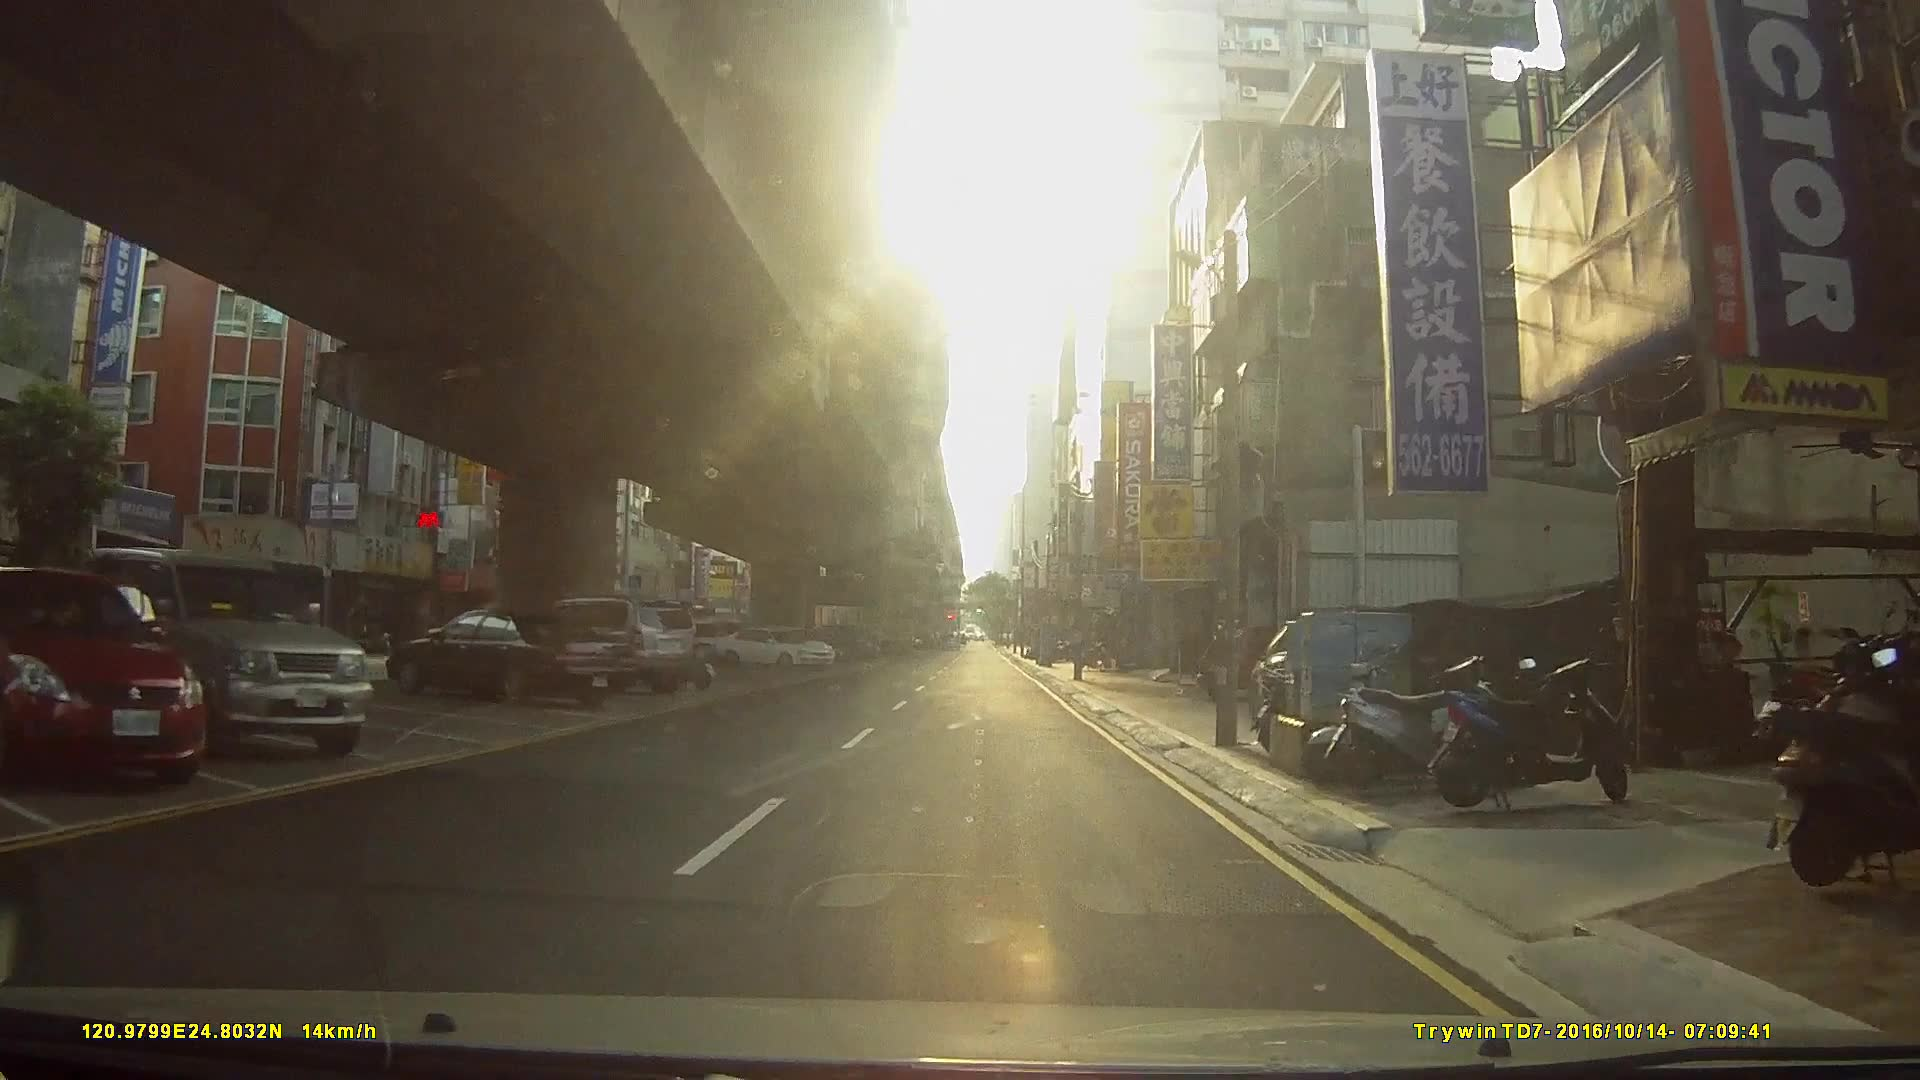vehicle: (75, 545, 371, 761), (0, 566, 199, 789), (388, 607, 644, 708), (525, 593, 699, 698), (711, 626, 837, 671)
